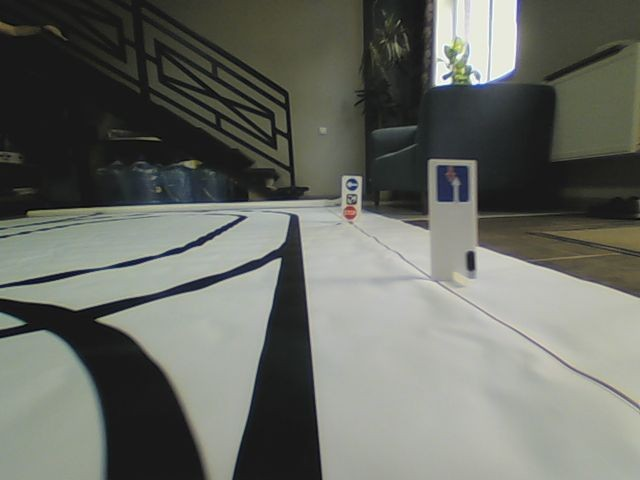priority_movement: (436, 164, 469, 202)
